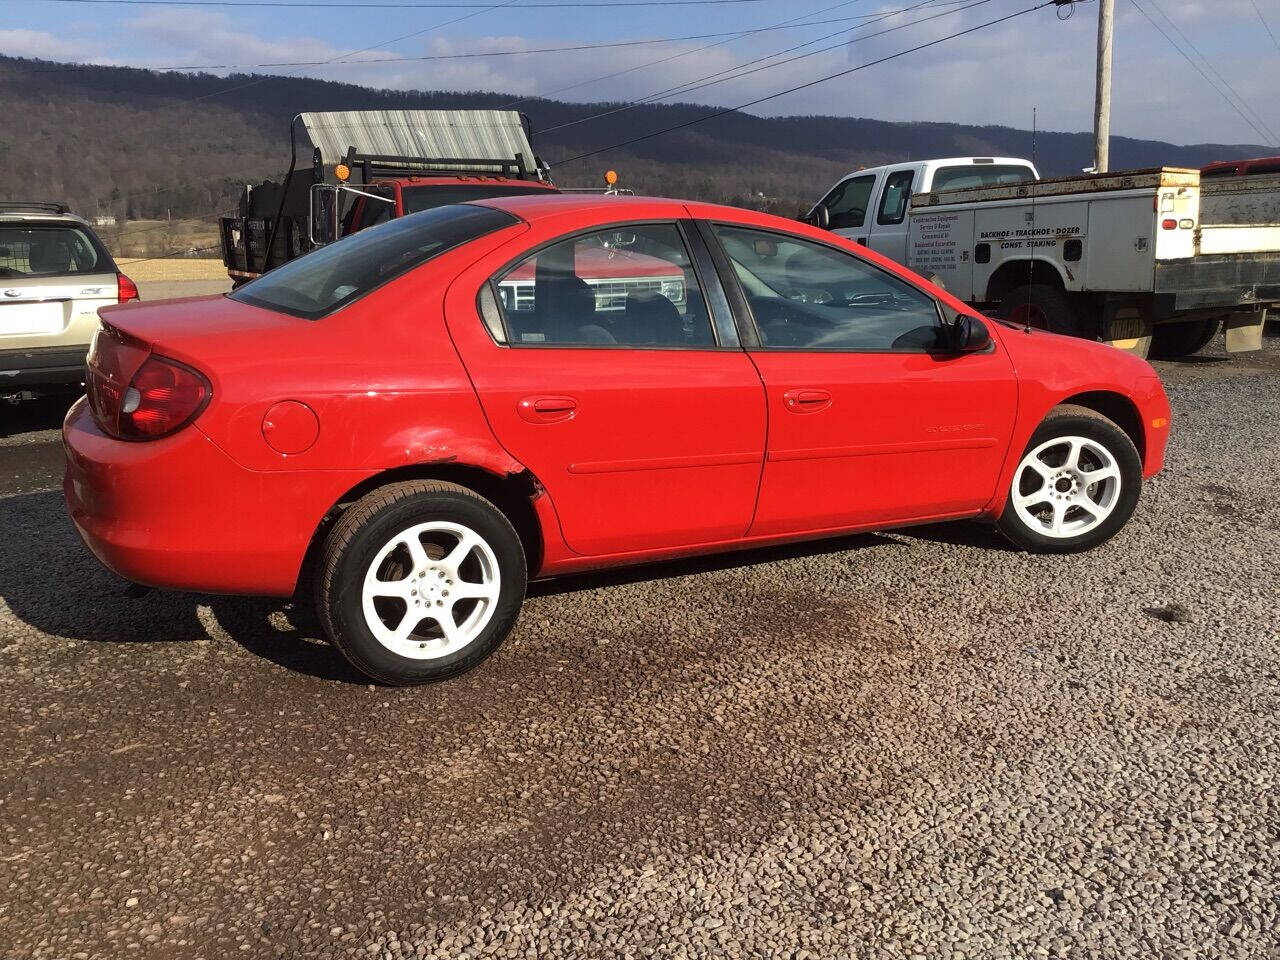car: (55, 181, 1176, 699), (795, 158, 1280, 358), (1, 199, 142, 431)
